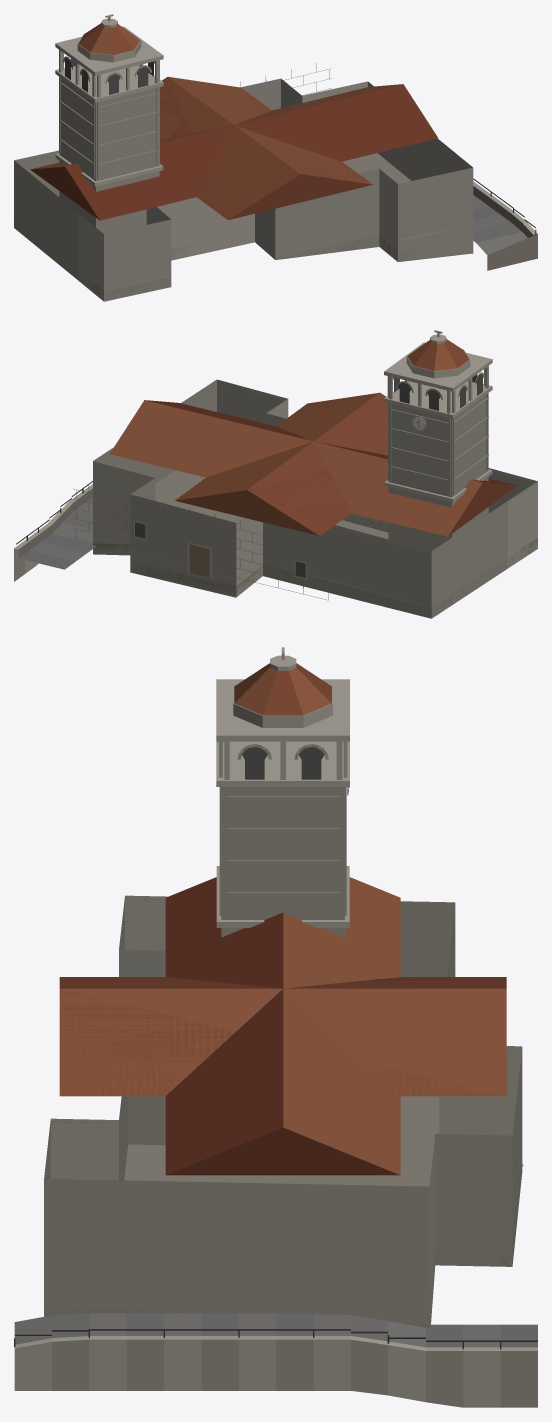
File: church.glb
The picture shows the model from 3 angles, top to bottom: view 1: azimuth 30°, elevation 25°; view 2: azimuth 150°, elevation 25°; view 3: azimuth 270°, elevation 25°; orthographic projection. The views are drawn at different scales.
Visible parts, largest first — view 1: focal:church; view 2: focal:church; view 3: focal:church.
Boxes of the visible parts, bbox=[...] form: focal:church: bbox=[14, 14, 537, 301]; focal:church: bbox=[14, 330, 537, 618]; focal:church: bbox=[14, 647, 537, 1407].
Size of the model in its own units: 39.74 by 26.54 by 26.74.
